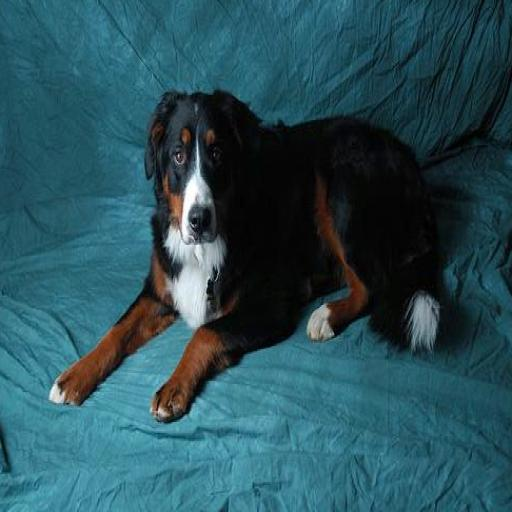dog_face: (146, 94, 246, 244)
